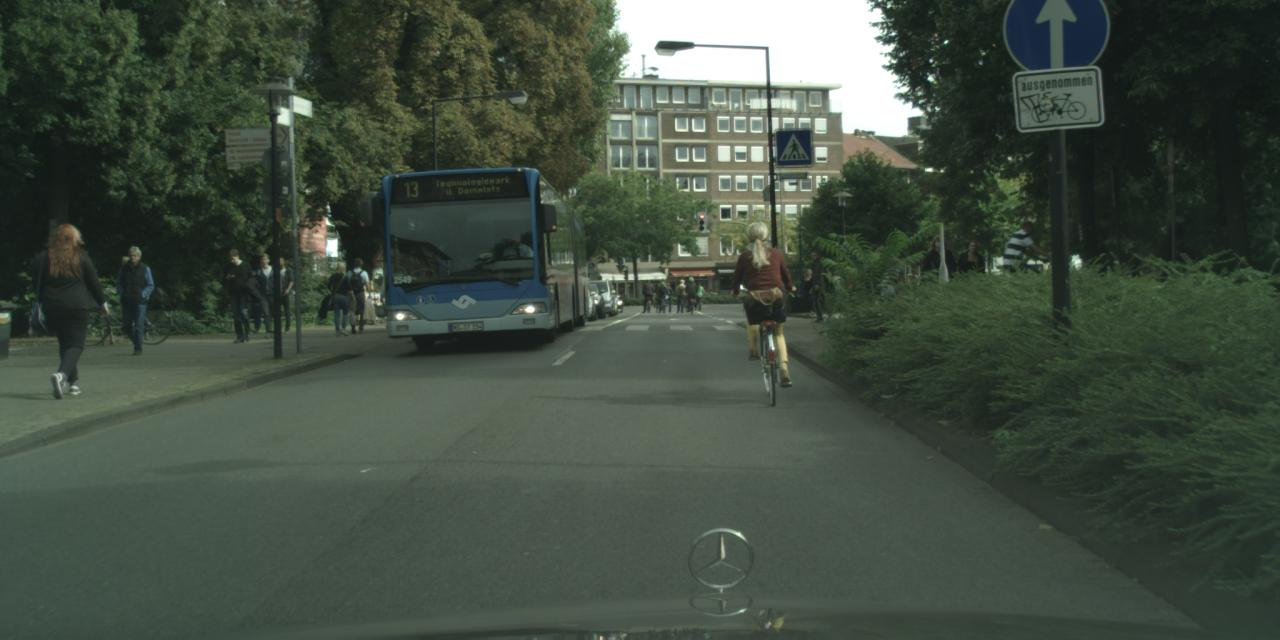ped: (33, 224, 100, 392), (735, 222, 793, 364), (116, 246, 158, 351), (919, 234, 960, 334), (1012, 220, 1048, 310), (221, 249, 257, 339), (954, 240, 989, 324), (253, 252, 285, 332), (115, 256, 147, 336), (326, 259, 356, 335), (342, 257, 372, 332), (266, 257, 296, 331), (248, 258, 278, 331), (802, 250, 831, 320), (801, 269, 817, 310), (656, 278, 669, 311), (641, 278, 654, 309), (684, 276, 697, 307), (660, 282, 672, 312), (675, 278, 687, 308), (692, 281, 703, 310)
